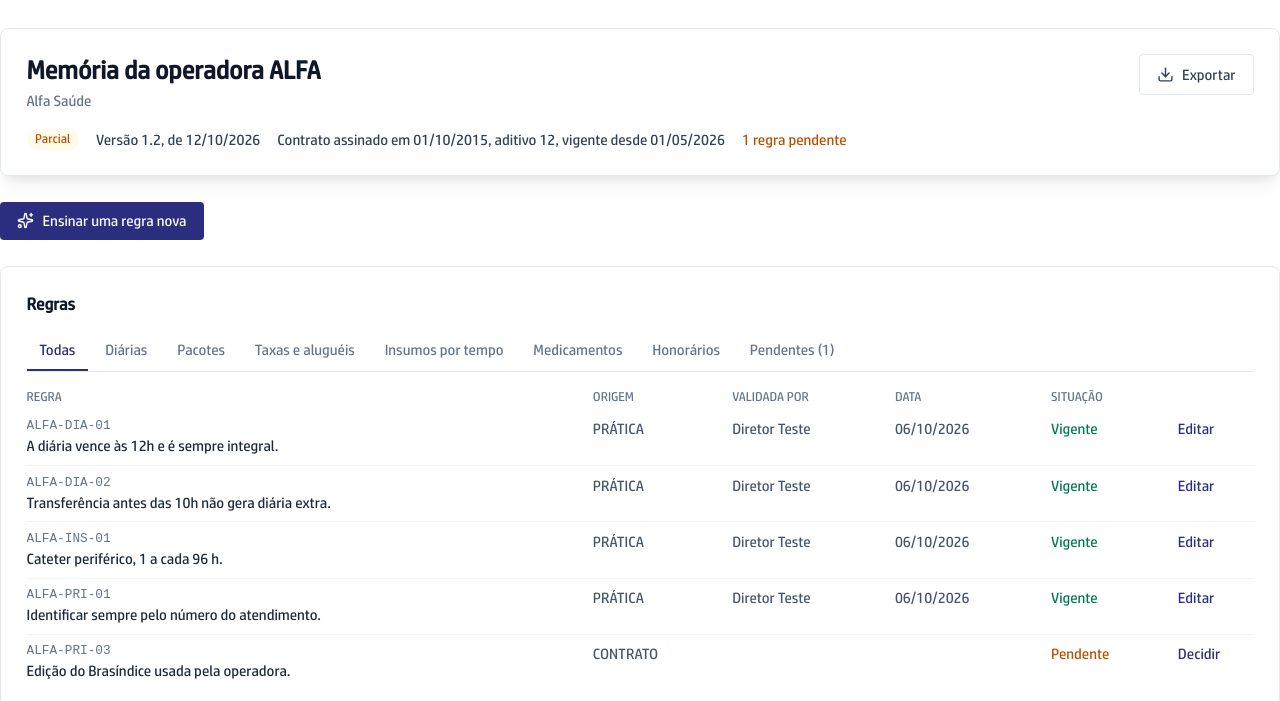
Scenario: editar e decidir › a regra do modelo HSM oferece aplicar a todas, e o aviso diz quais operadoras ganharam versão
This screenshot has width=1280, height=701.
Click the button "Editar" in the row of "ALFA-PRI-01" at x=1196, y=598, box 1178,587 -> 1214,608
(page scrolled)
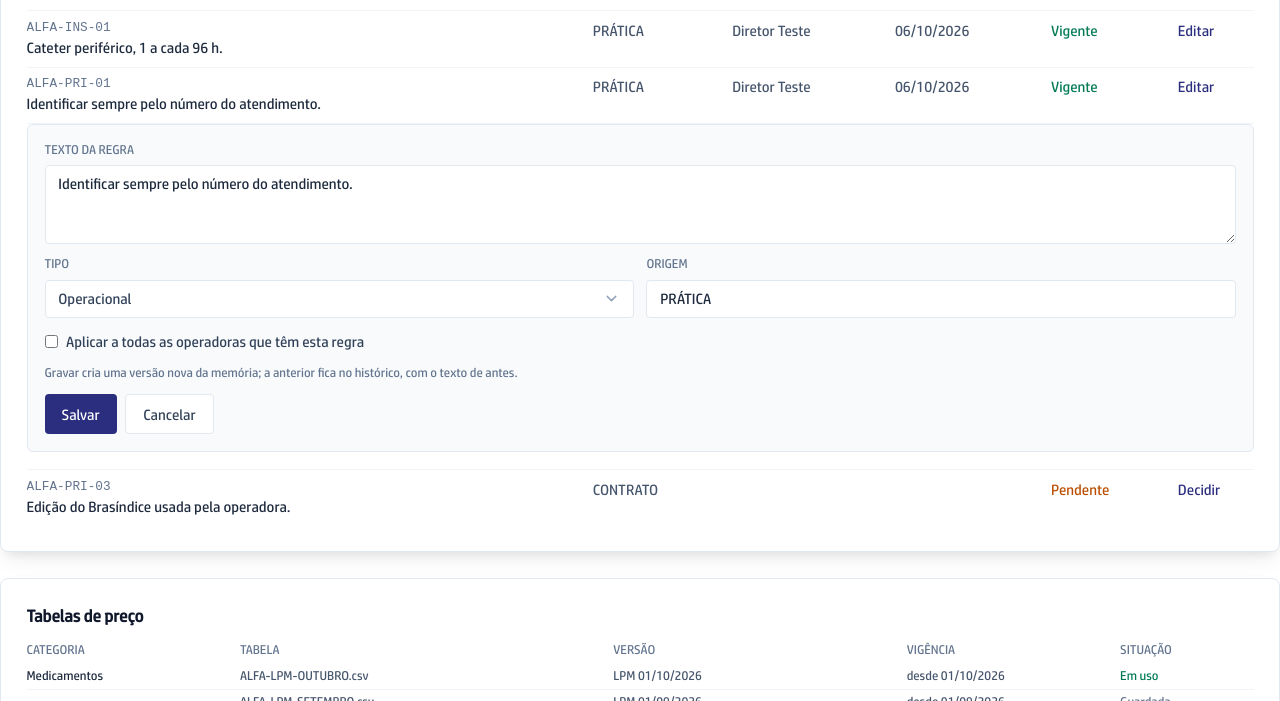
Click the checkbox labelled "Aplicar a todas as operadoras que têm esta regra" at x=51, y=341, box 44,335 -> 58,348
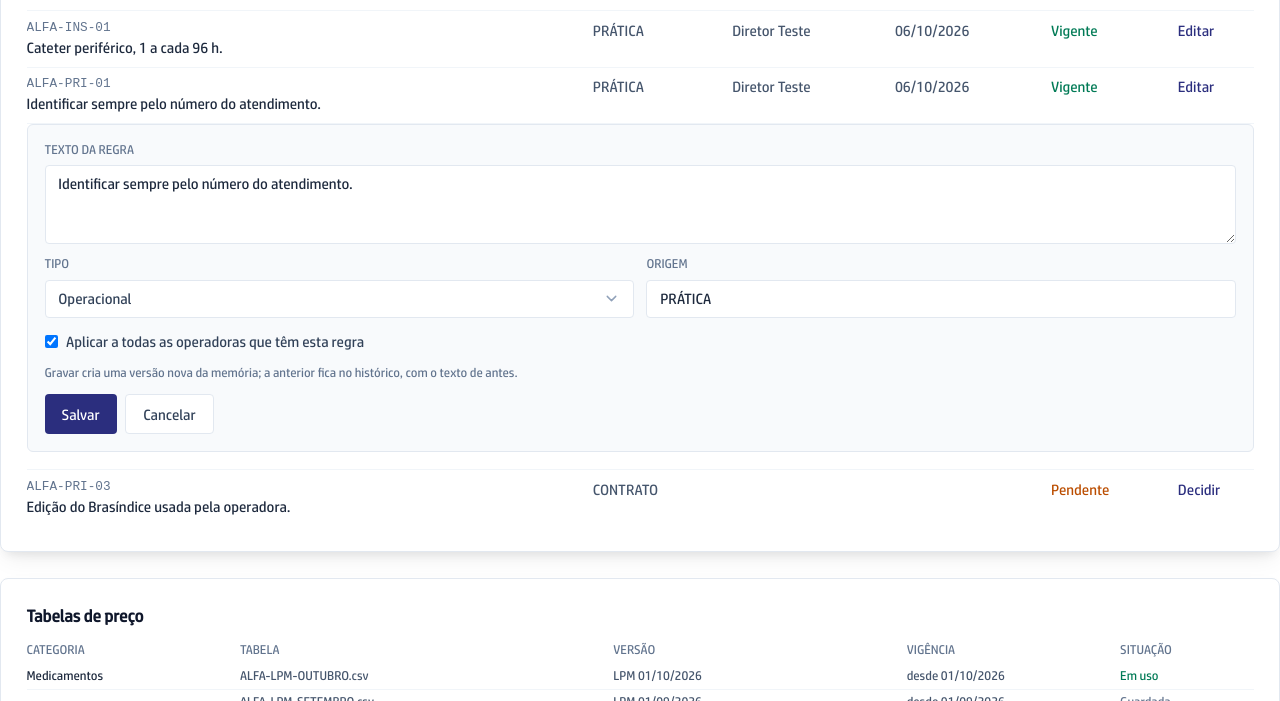
Click the button "Salvar" at x=81, y=414, box 44,394 -> 117,434
(page scrolled)
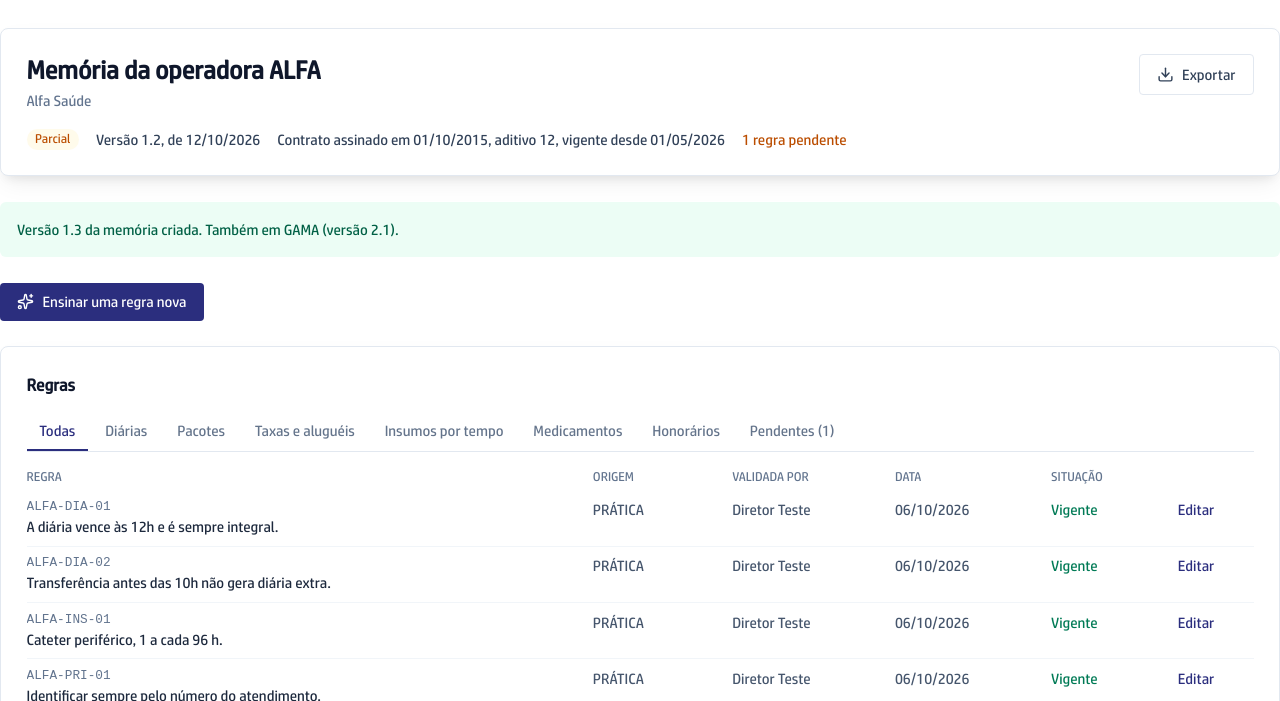
Now the message shows "GAMA (versão 2.1)", box 17,221 -> 399,238
